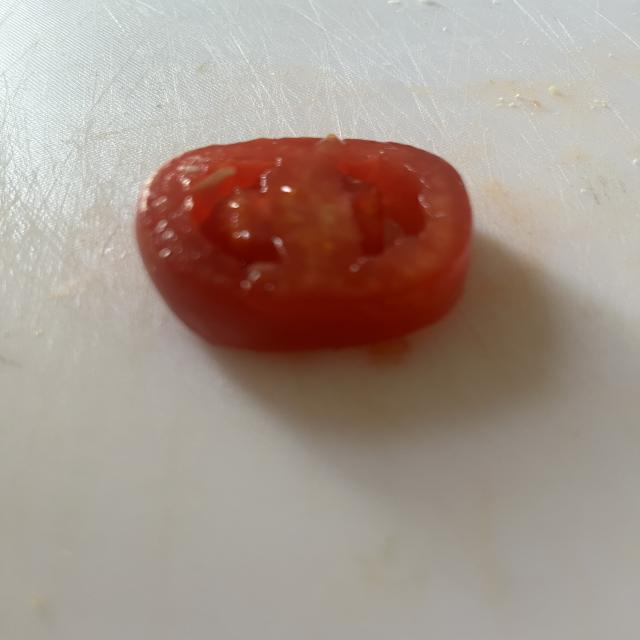sliced_tomato: (137, 136, 470, 350)
